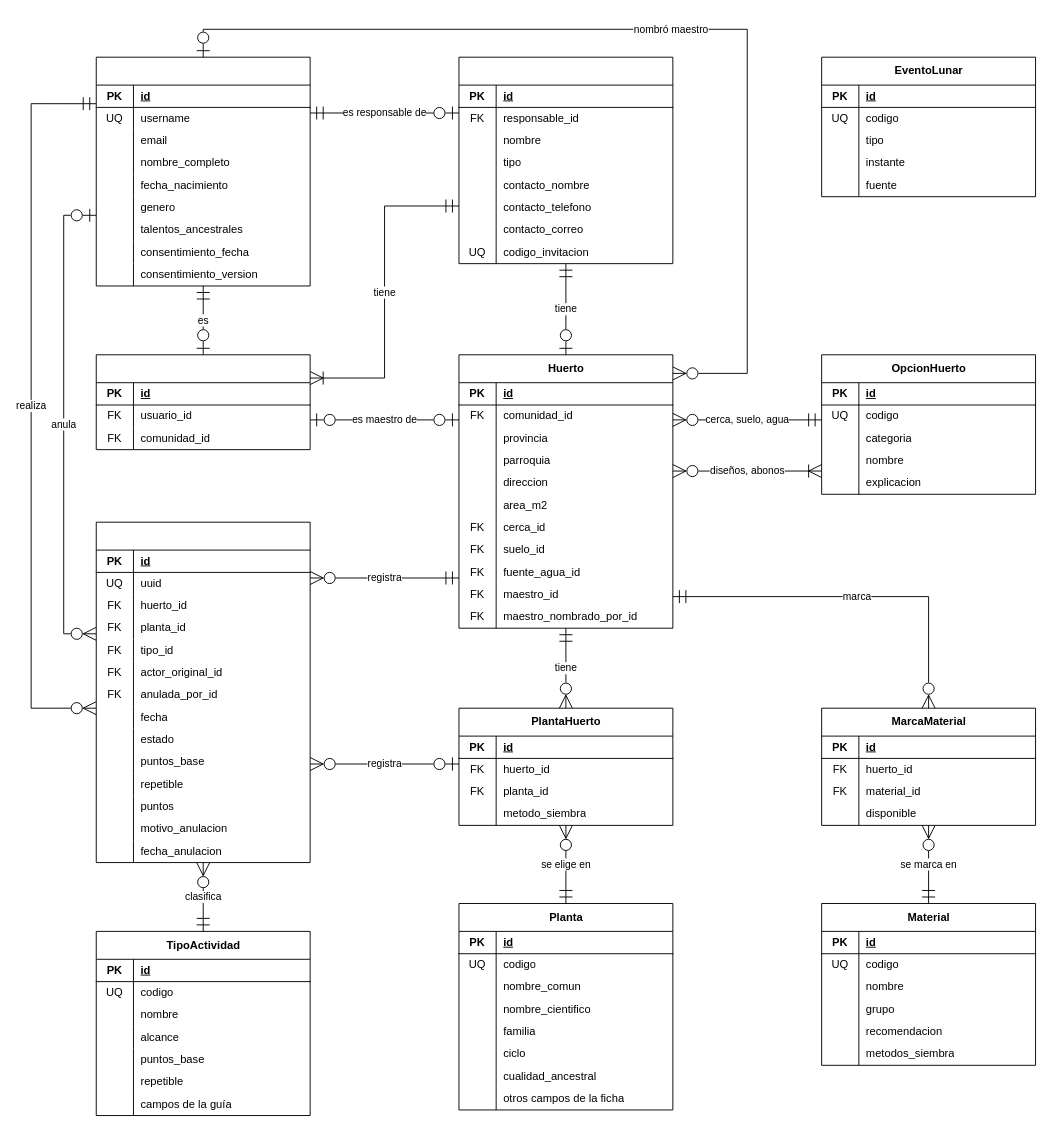
The diagram is 1052 pixels wide and 1132 high, and some of its shapes have lost their labels. The shapes that lost their labels are listed below. From the top down, each one's box as (x1, y1, x2, y2) in pixels, then its label:
(95, 56, 310, 286): Usuario
(458, 56, 673, 264): Comunidad
(95, 354, 310, 450): Miembro
(95, 521, 310, 863): Actividad
